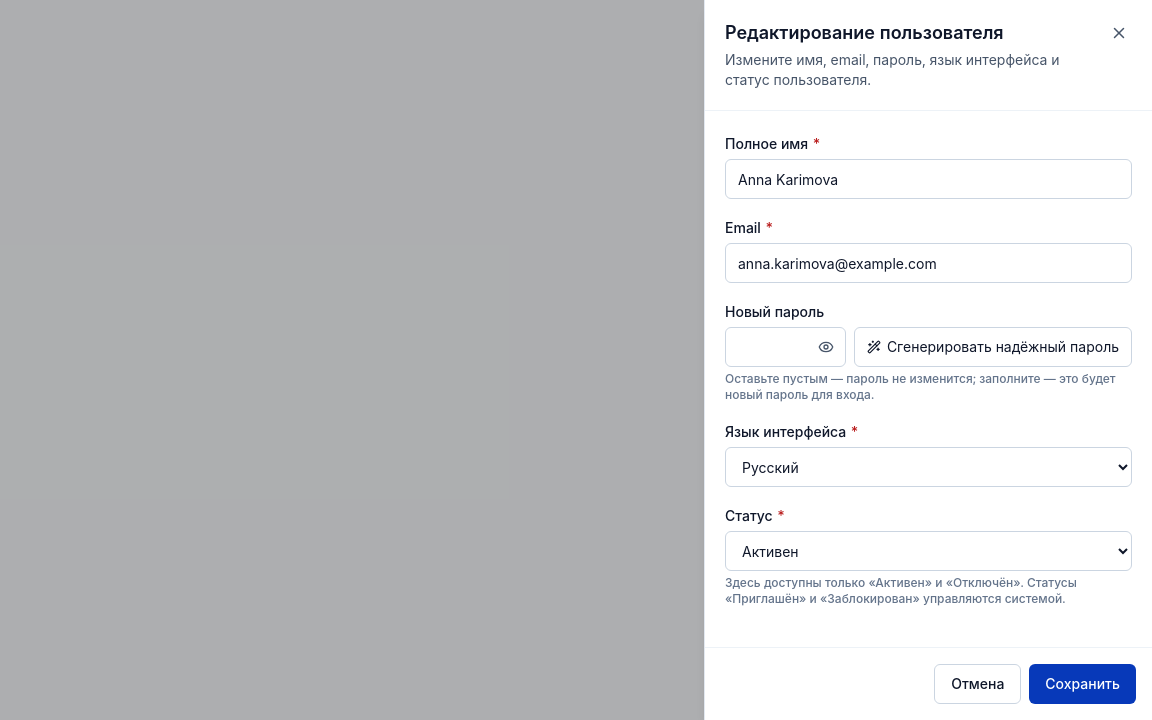
it: <EditUserDialog /> › maps USER_EMAIL_TAKEN to an inline error on the email field
This screenshot has width=1152, height=720.
Replace the text in the field with test id "edit-email" with "taken@example.com" at (928, 263), box [725, 243, 1132, 283]
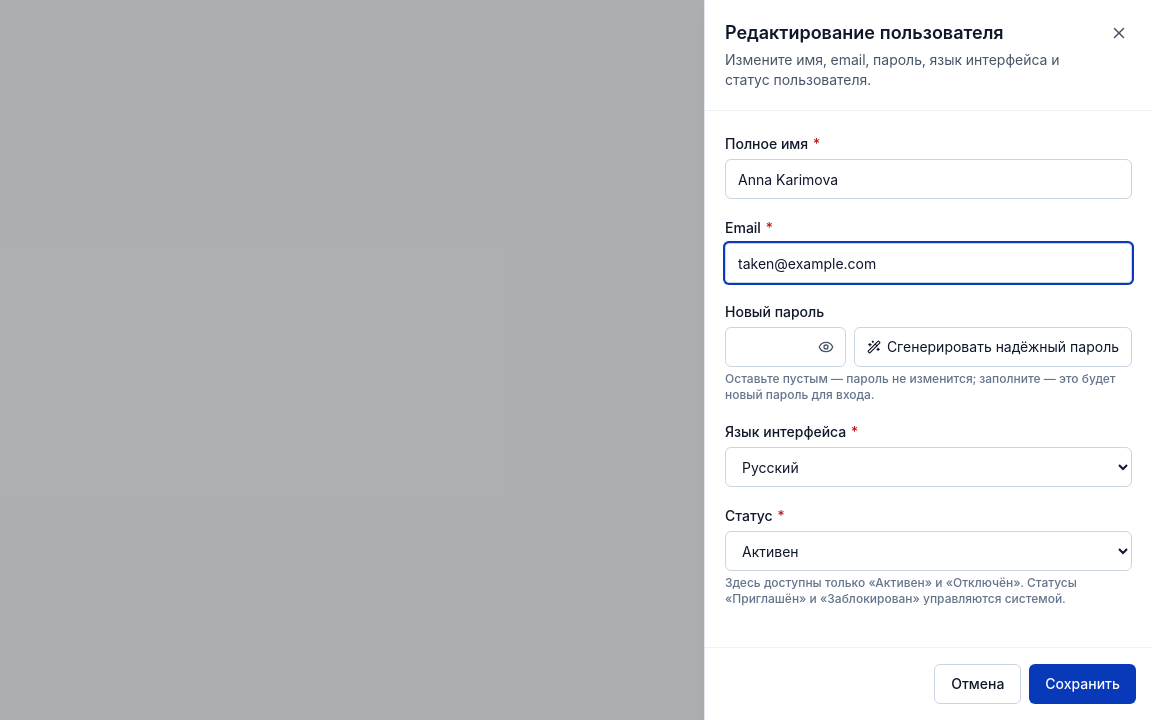
Click the button "Сохранить".
click(1083, 684)  # box [1029, 664, 1136, 704]
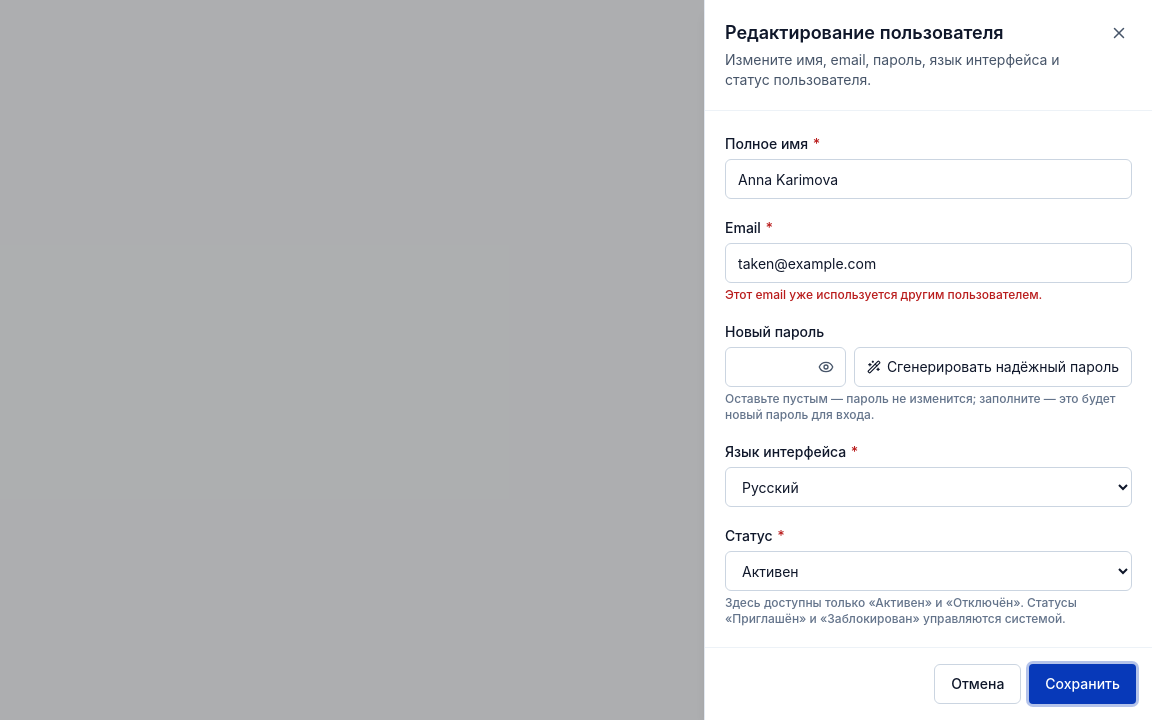
Expected: the message "Этот email уже используется другим пользователем." is shown, [725, 287, 1042, 302]
